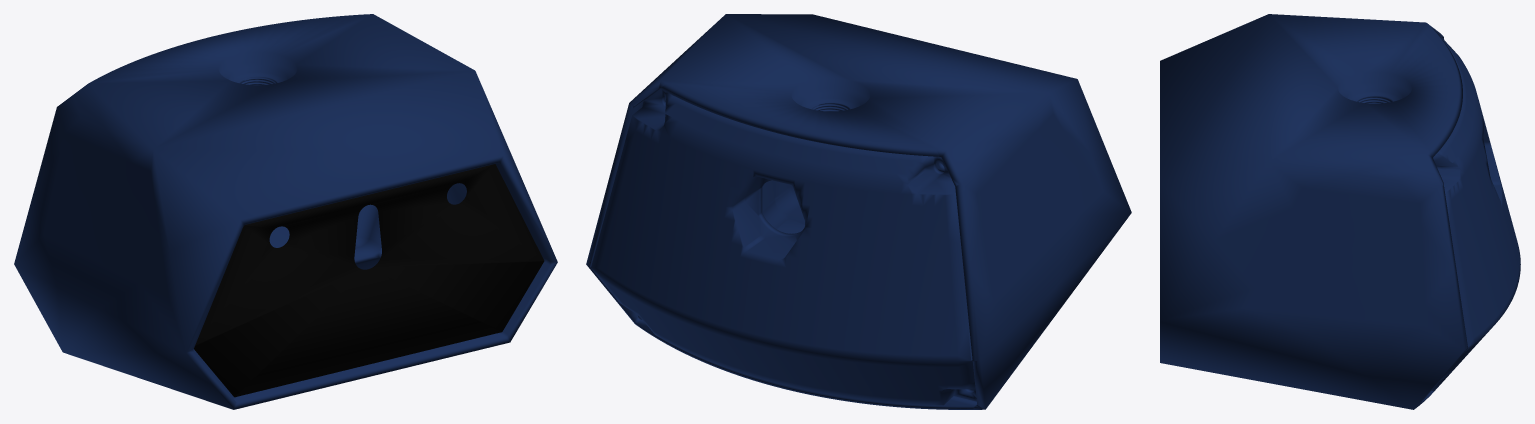
The model's file is nemo.obj.
The picture shows the model from 3 angles, left to right: view 1: azimuth 30°, elevation 25°; view 2: azimuth 150°, elevation 25°; view 3: azimuth 270°, elevation 25°; orthographic projection. The views are drawn at different scales.
Size of the model in its own units: 115 by 73.34 by 97.15.
